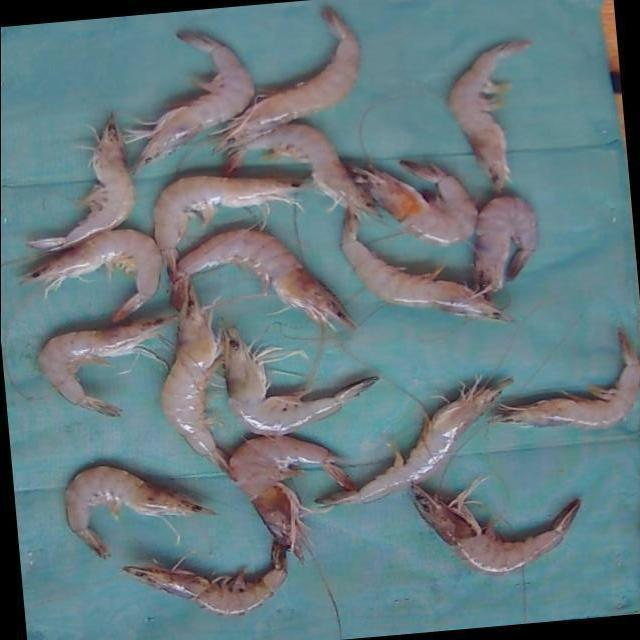shrimp: (315, 380, 511, 507), (214, 8, 360, 151), (341, 207, 513, 322), (169, 229, 354, 328), (124, 31, 254, 170), (153, 175, 312, 285), (223, 328, 378, 436), (412, 480, 581, 574), (229, 436, 353, 560), (26, 115, 134, 251), (161, 288, 236, 482), (491, 332, 640, 429), (37, 316, 177, 417), (65, 467, 215, 559), (224, 123, 376, 211), (20, 229, 162, 322), (449, 39, 532, 190), (121, 543, 286, 616), (350, 160, 479, 245), (474, 195, 539, 291)
